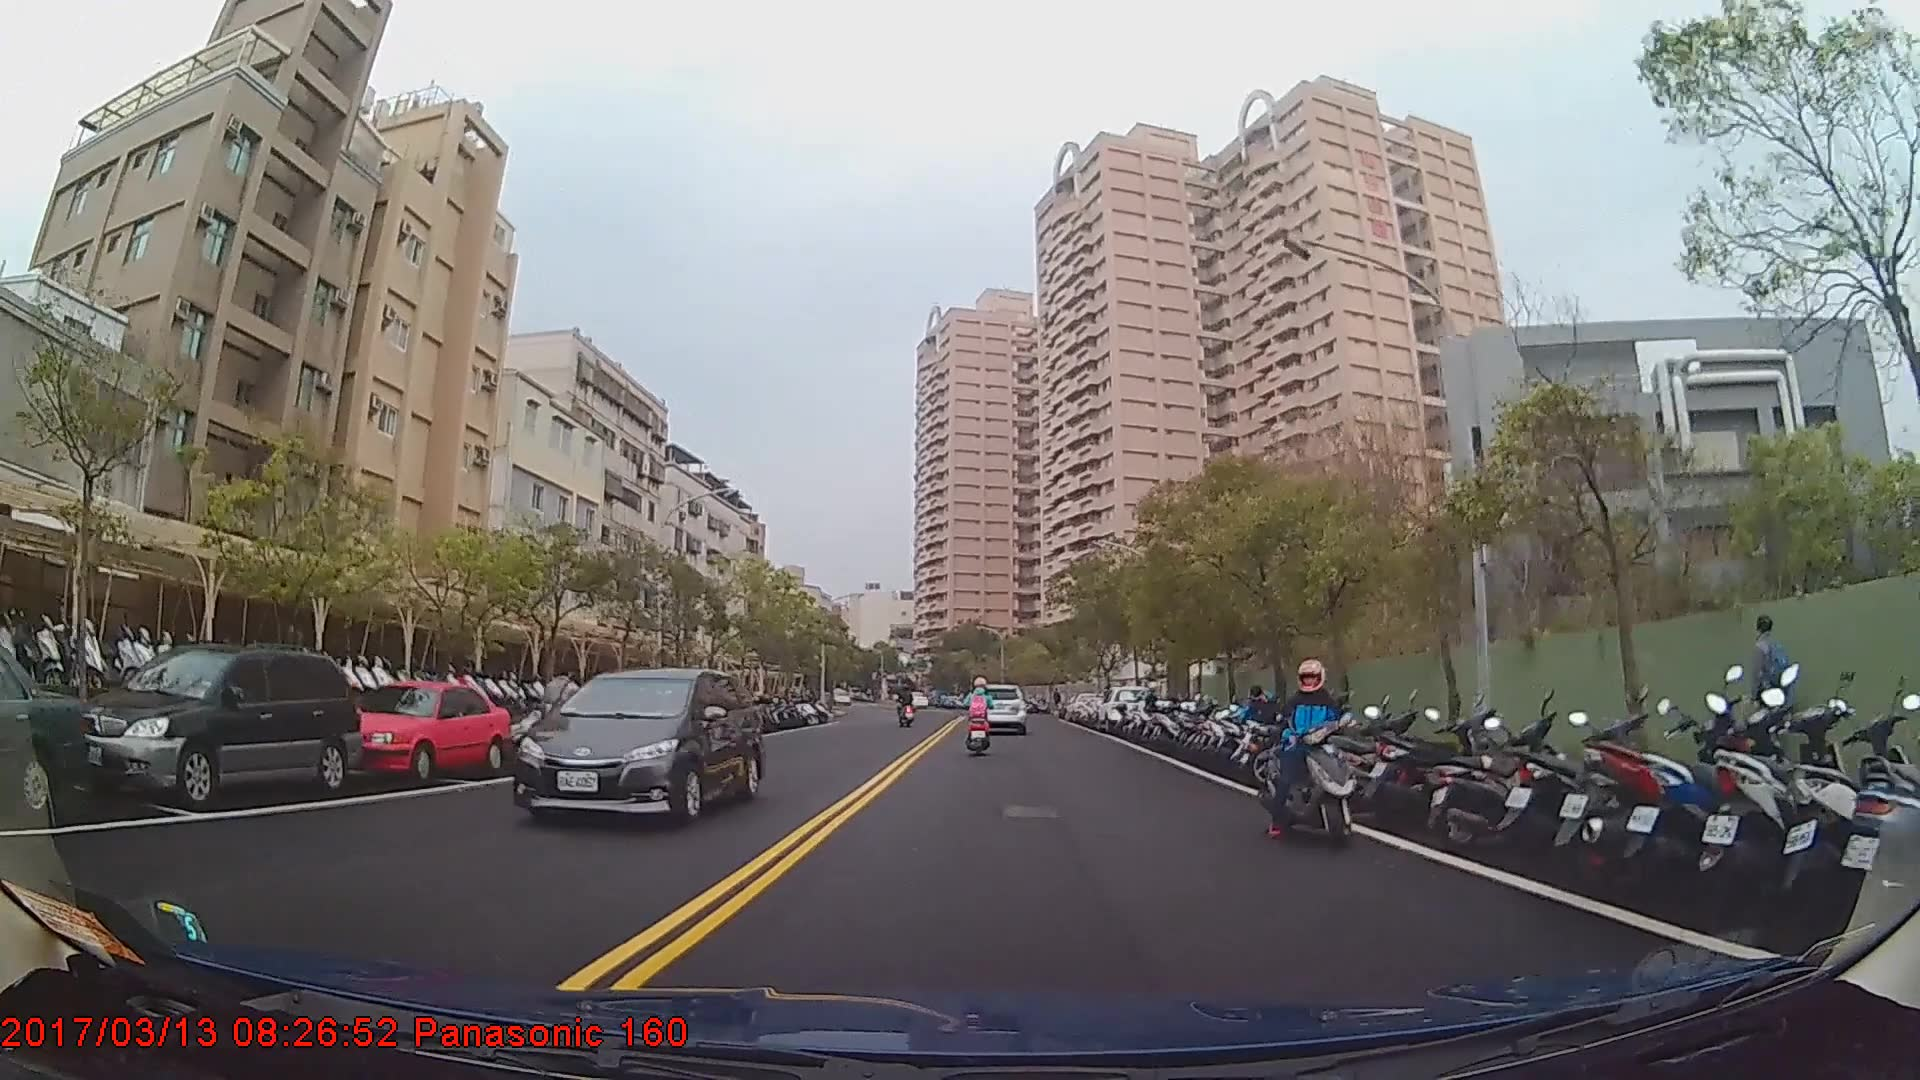pedestrian: (1733, 614, 1802, 803)
rider: (1263, 655, 1361, 845), (961, 678, 994, 753), (896, 681, 916, 723)
vehicle: (76, 640, 362, 806), (510, 664, 760, 831), (342, 680, 509, 784), (0, 644, 88, 815), (1092, 683, 1159, 734), (971, 681, 1025, 732)
